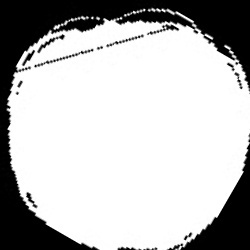spot: (10, 4, 248, 248)
